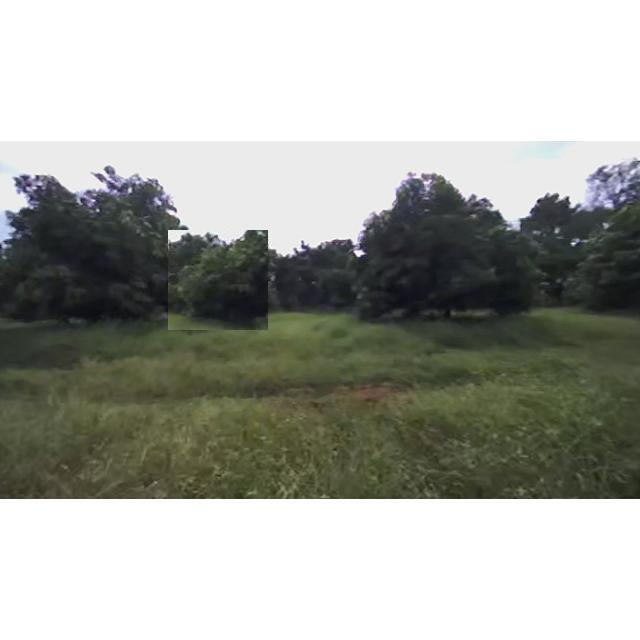direk: (4, 157, 192, 325), (348, 165, 518, 325), (168, 230, 268, 330), (512, 186, 590, 300), (267, 232, 367, 318), (568, 196, 636, 316), (586, 154, 638, 298)
